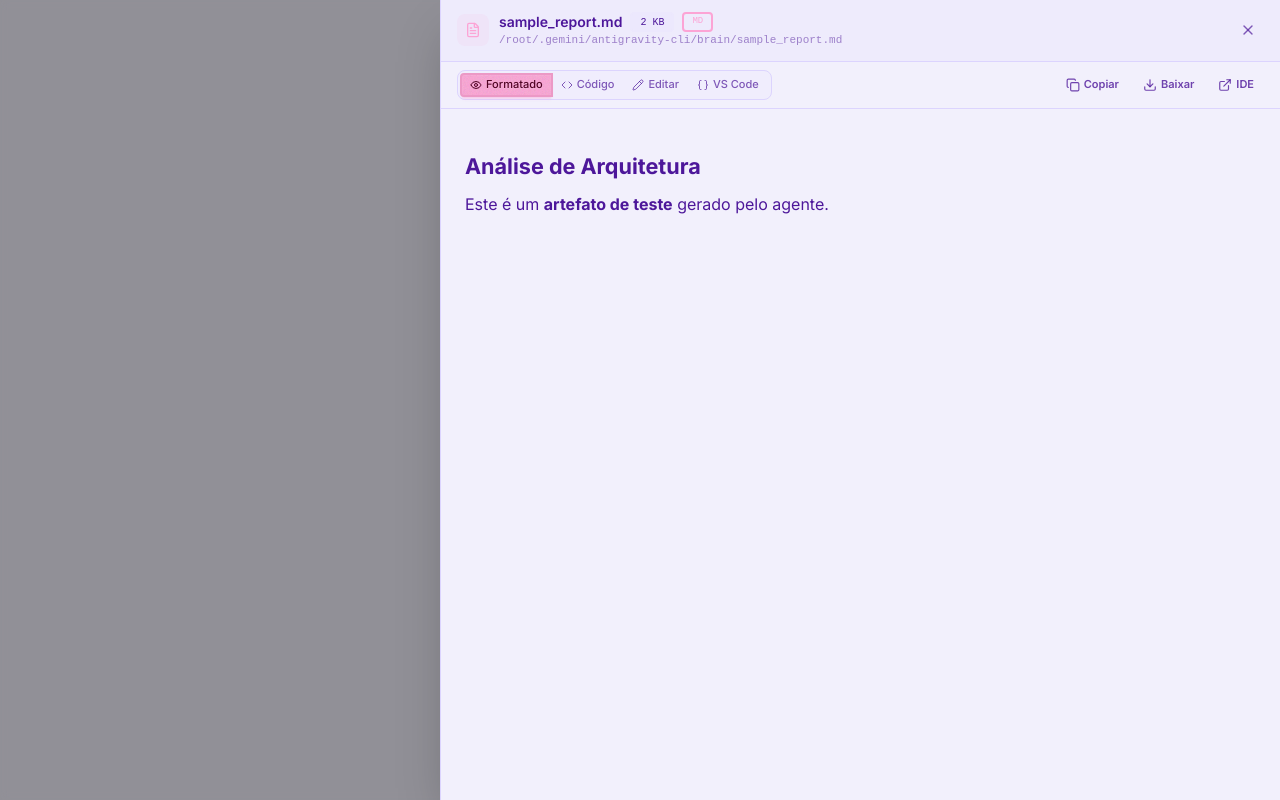
Test: ArtifactDrawer Component (Issue #50) › deve copiar o conteúdo para a área de transferência ao clicar no botão Copiar
Click the button with test id "artifact-drawer-copy-btn" at [1092, 84], box [1056,72,1129,96]
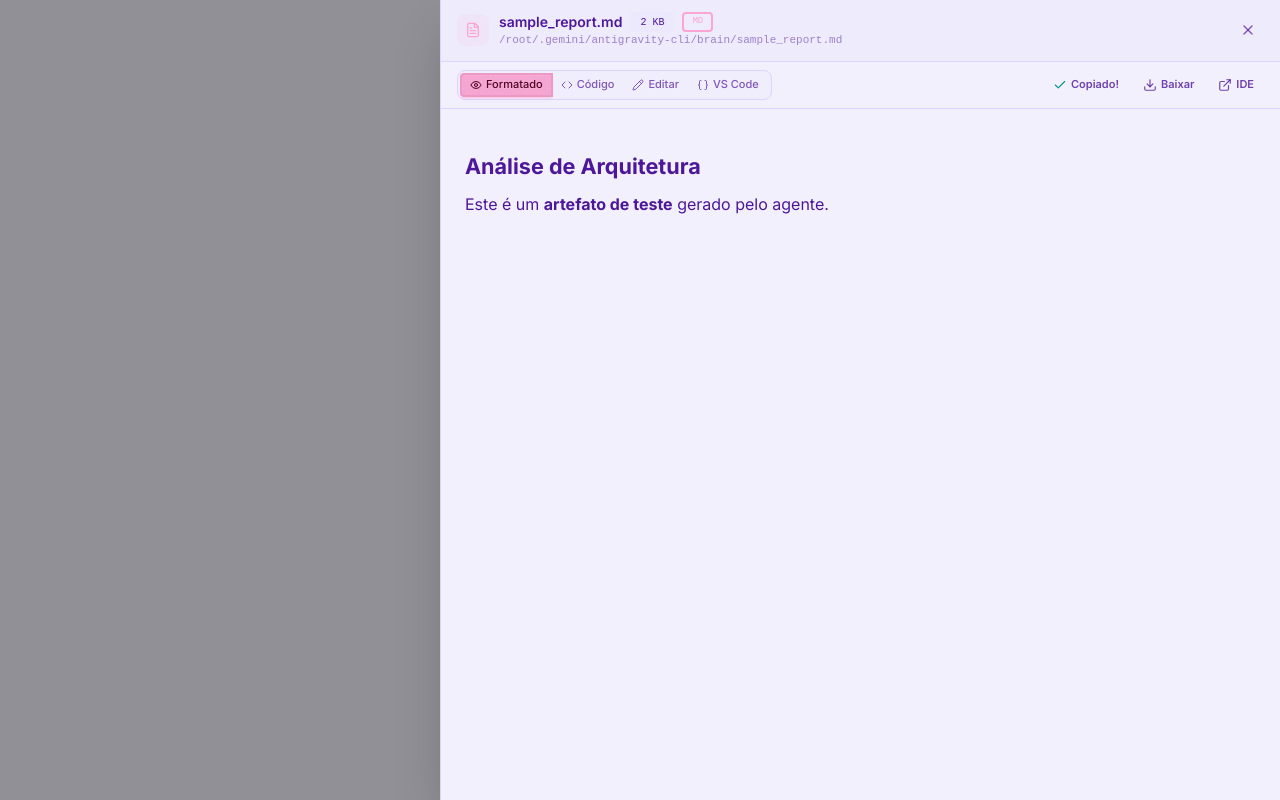
Check: the text "Copiado!" is shown, box [1071,77,1119,92]
